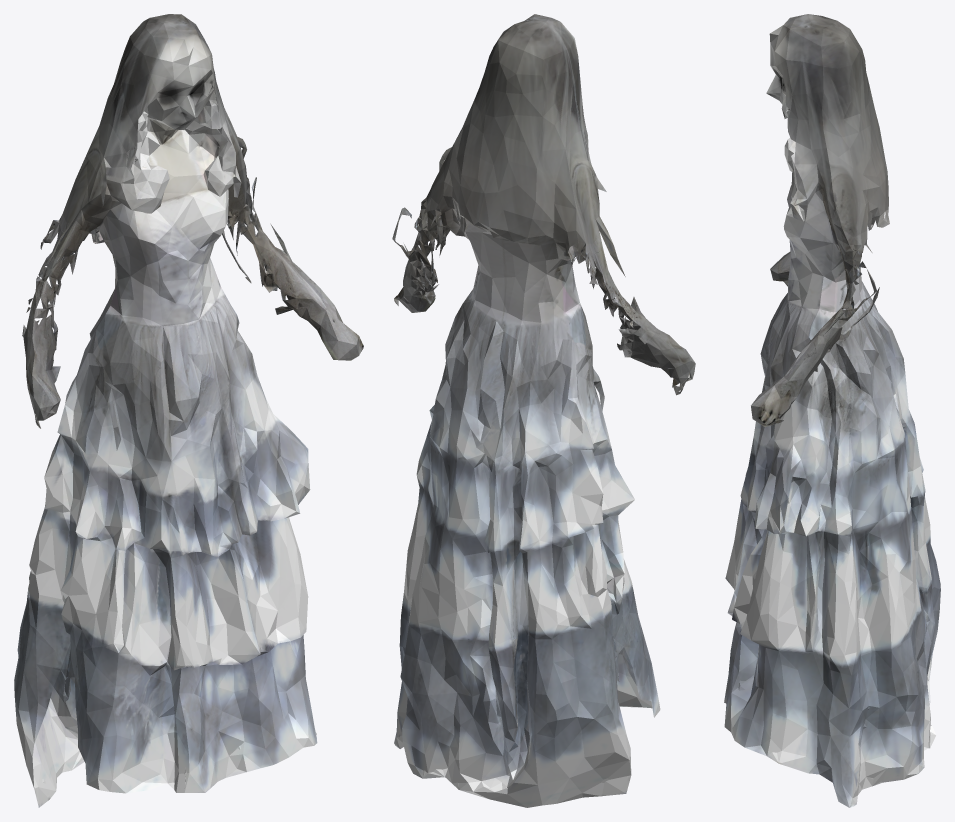
The model's file is ghost_bride_3d_model_ftu.glb.
The picture shows the model from 3 angles, left to right: view 1: azimuth 30°, elevation 25°; view 2: azimuth 150°, elevation 25°; view 3: azimuth 270°, elevation 25°; orthographic projection. The views are drawn at different scales.
Visible parts, largest first — view 1: temp; view 2: temp; view 3: temp.
Boxes of the visible parts, bbox=[...] form: temp: bbox=[14, 14, 363, 807]; temp: bbox=[392, 14, 695, 807]; temp: bbox=[724, 14, 940, 807].
Size of the model in its own units: 0.851 by 1.99 by 0.536.
Materials: 1 (1 with a texture image).
